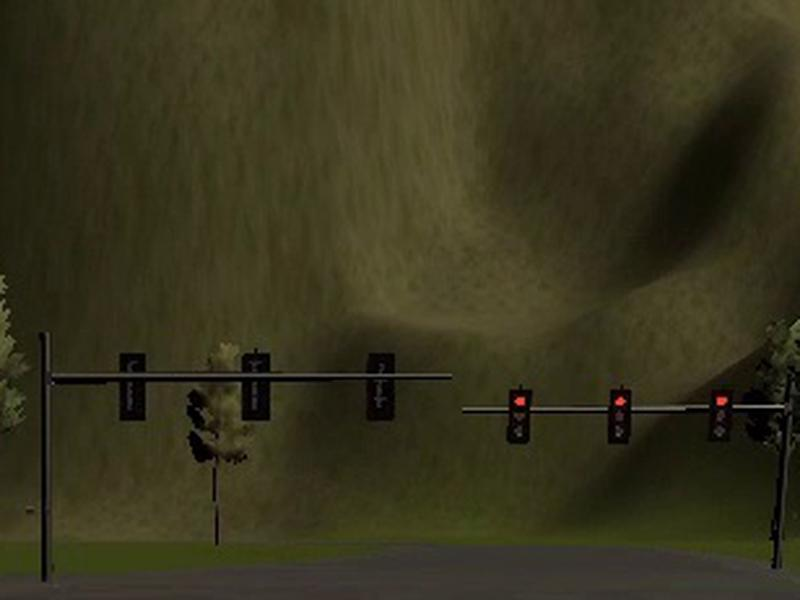Red: (506, 389, 534, 445), (607, 390, 632, 444), (709, 391, 734, 441)
